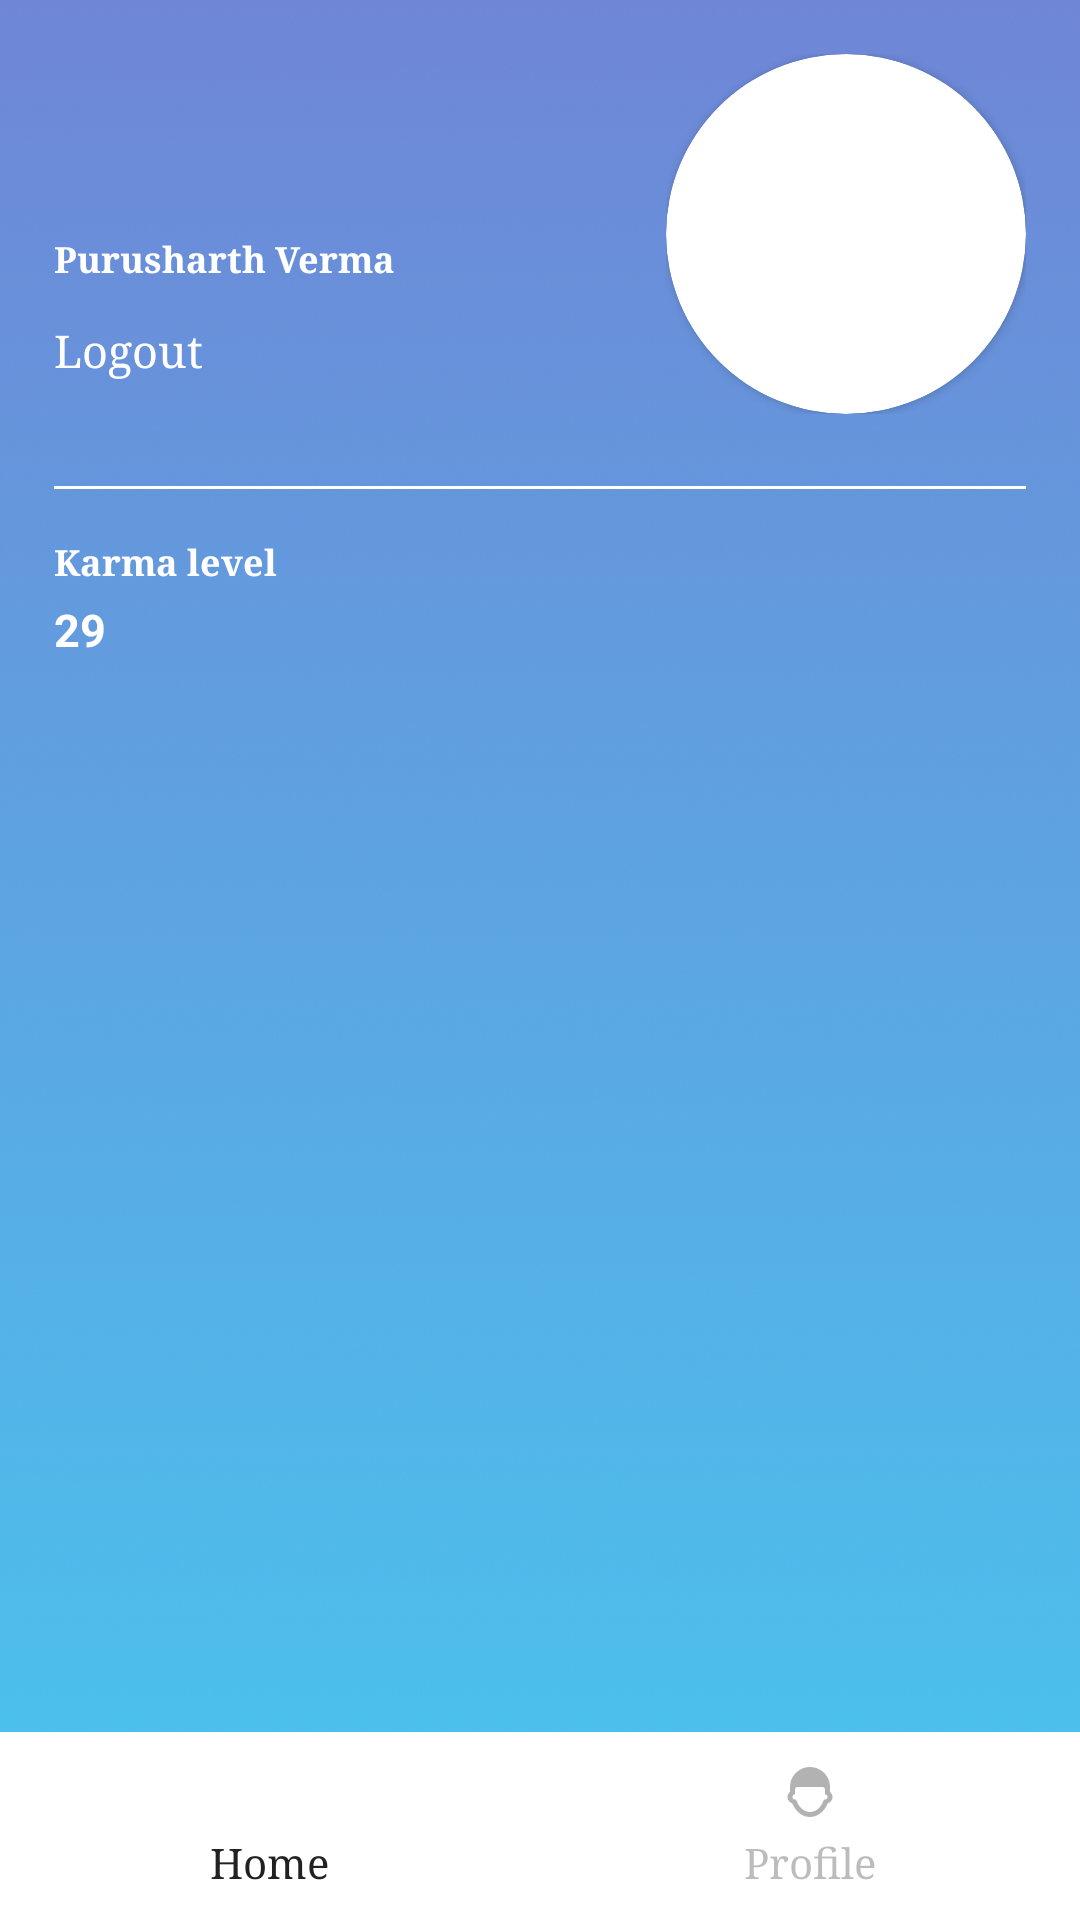

Named icons in this screenshot (1080w x 1920h) and their bounding boxes, bbox=[x1, y1, x2, y2]:
person male: bbox=[787, 1767, 833, 1817]
